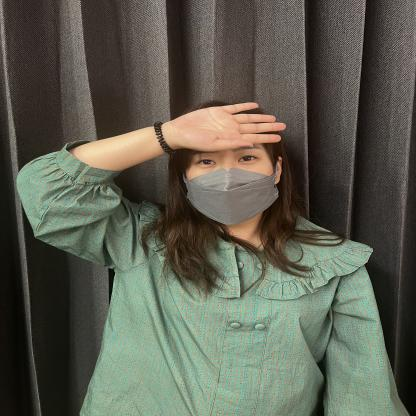Sick: (65, 68, 358, 201)
